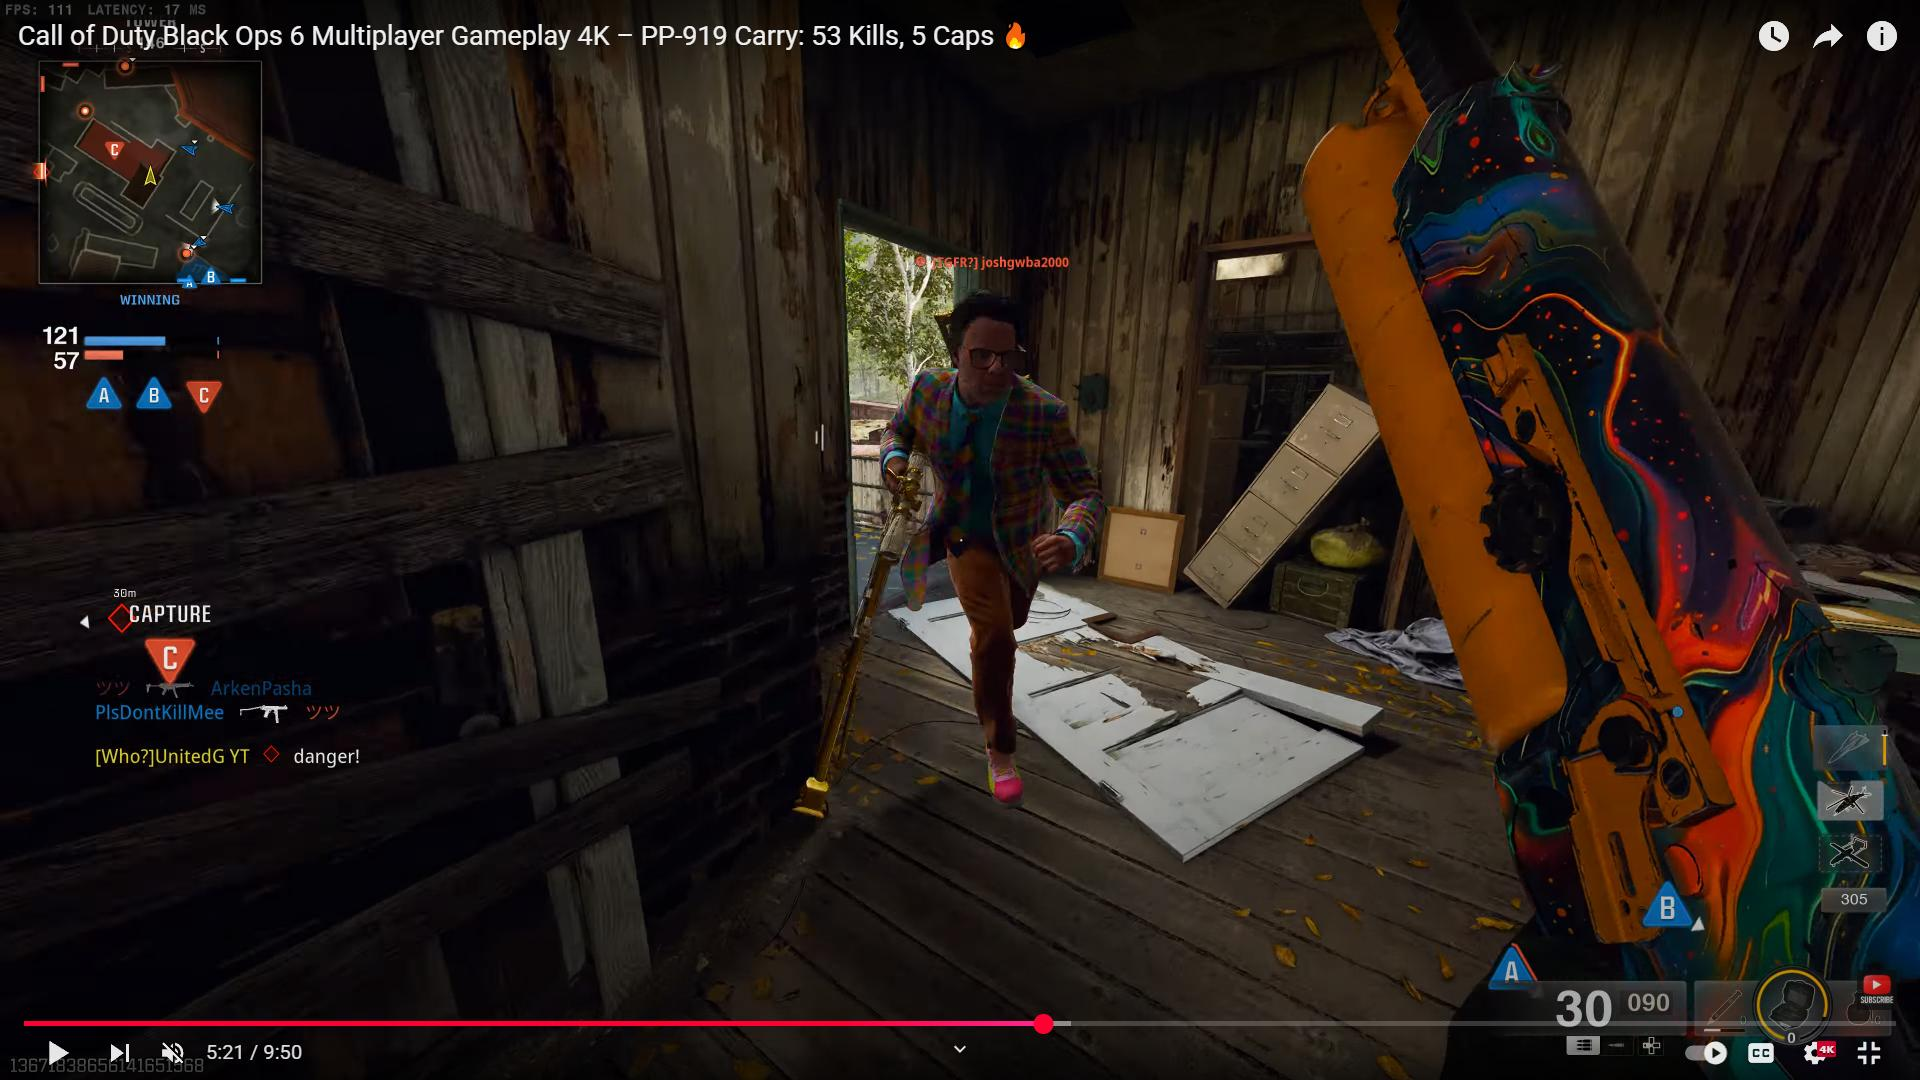Enemy: (861, 272, 1125, 823)
